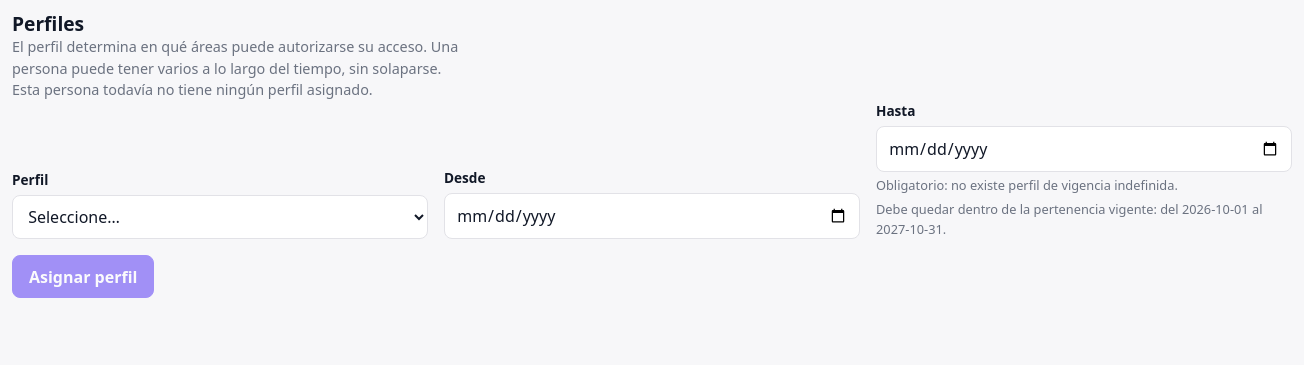
PerfilesPersona › muestra un mensaje propio para SIN_PERTENENCIA_VIGENTE
Select "Trabajador" in the dropdown labelled "Perfil" at (220, 217), box [12,195,428,239]
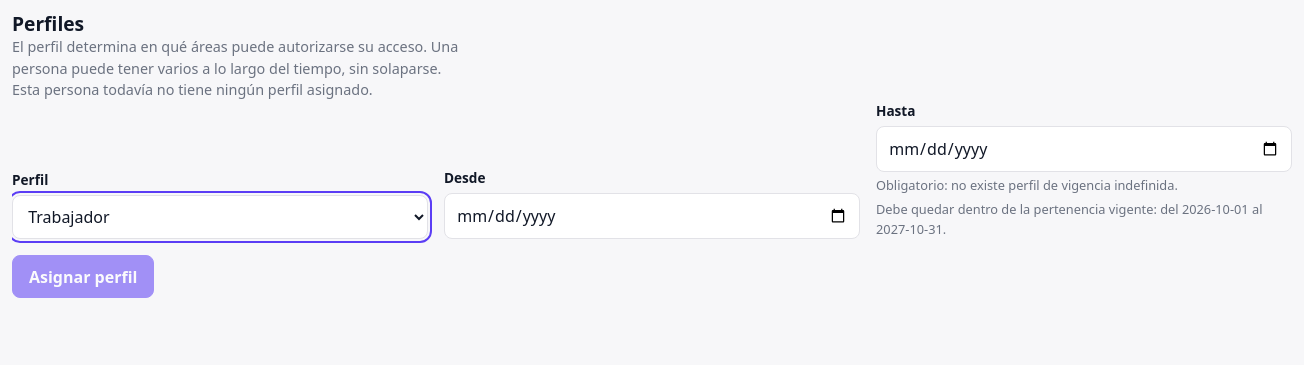
Type "2026-10-01" into the date field labelled "Desde" at (652, 216), box [444,193,860,239]
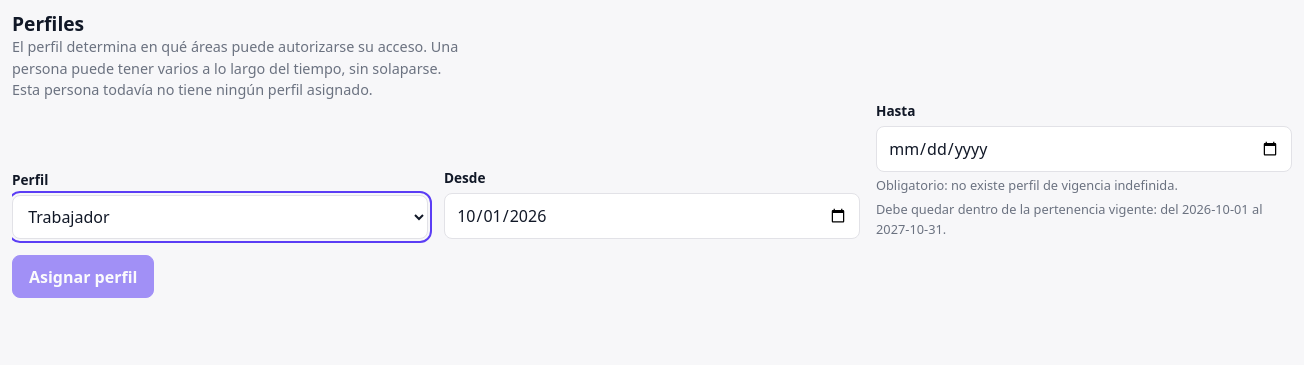
Type "2026-12-31" into the date field labelled "Hasta" at (1084, 149), box [876,126,1292,172]
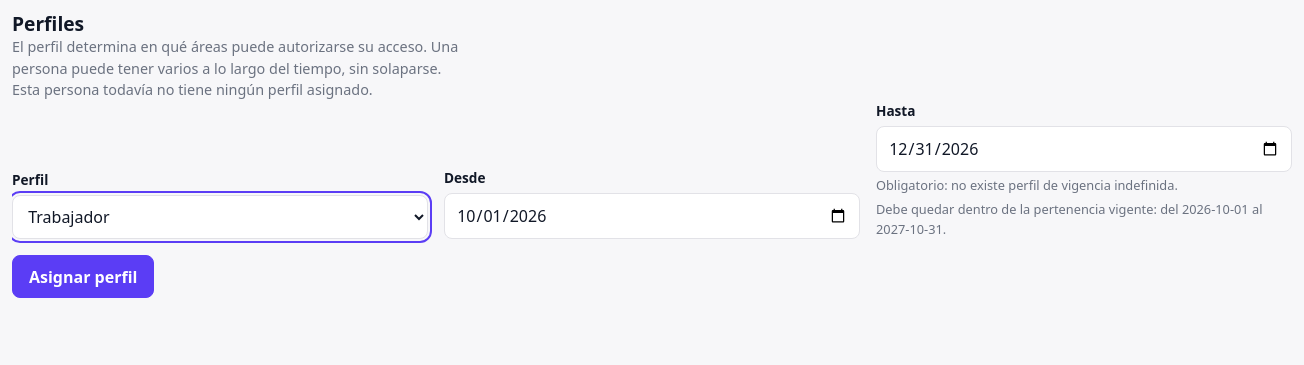
Click the button "Asignar perfil" at (83, 277), box [12,255,154,298]
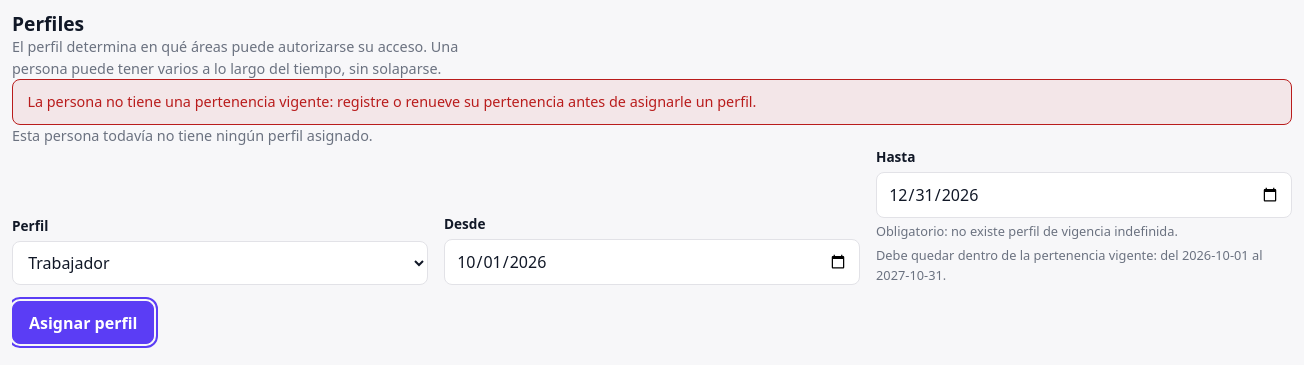
expect the message shows "La persona no tiene una pertenencia vigente: registre o renueve su pertenencia antes de asignarle un perfil.": met, box [27,92,756,111]
